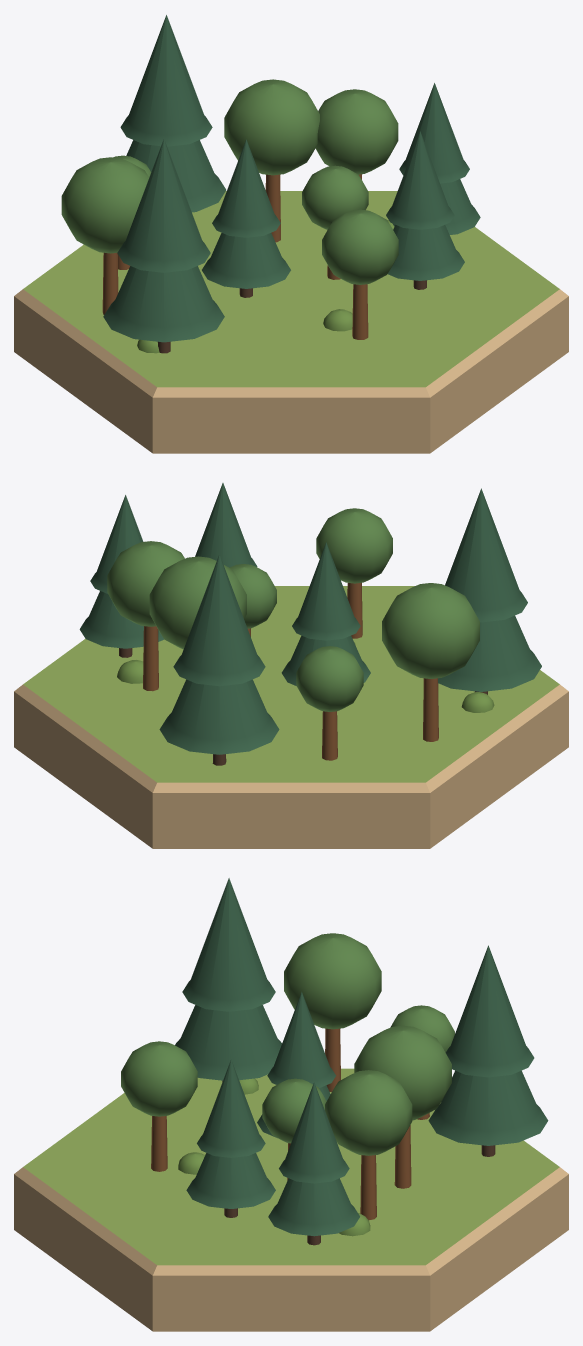
File: tile_woods_3.fbx
3 renders of one model, top to bottom at view 1: azimuth 30°, elevation 25°; view 2: azimuth 150°, elevation 25°; view 3: azimuth 270°, elevation 25°, orthographic.
Parts seen in each view (by area): view 1: tile_woods_3; view 2: tile_woods_3; view 3: tile_woods_3.
Part boxes in pixels (x1,y1,x2,y2): tile_woods_3: (14,15,568,453); tile_woods_3: (14,483,568,848); tile_woods_3: (14,878,568,1331).
Bounding box in the file's own units: 1.75 × 1.09 × 2.
